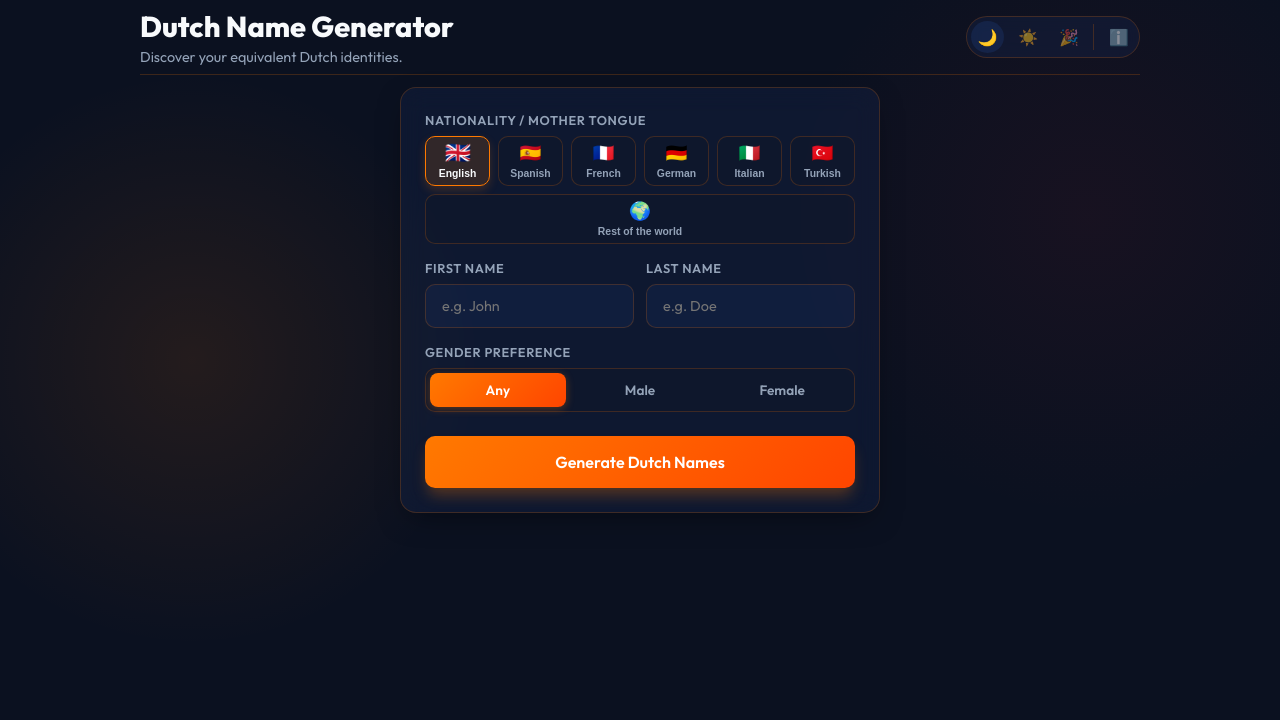
Test: App — About Modal › closes when user clicks the Close button
Click the button titled "About". click: (1119, 37)
box: top-left (1102, 21), bottom-right (1135, 53)
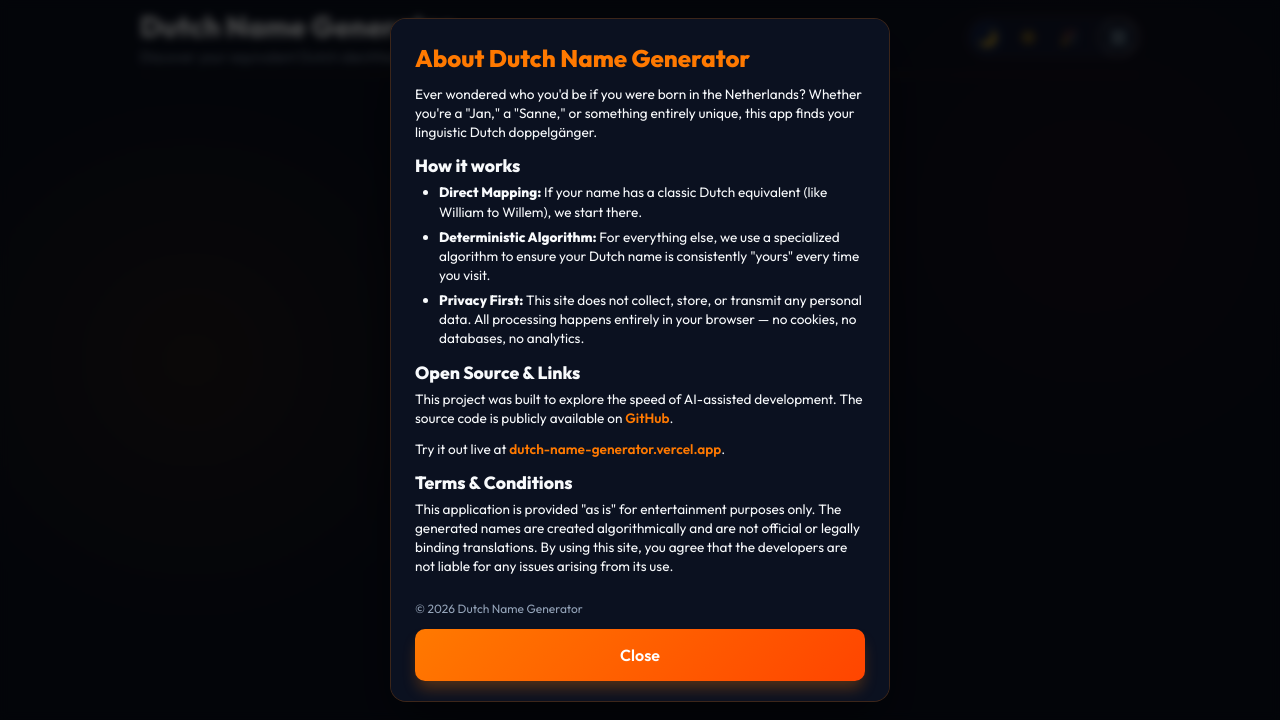
Now the heading "About Dutch Name Generator" is shown, box top-left (415, 43), bottom-right (750, 73)
Click the button "Close". click: (640, 655)
box: top-left (415, 629), bottom-right (865, 681)
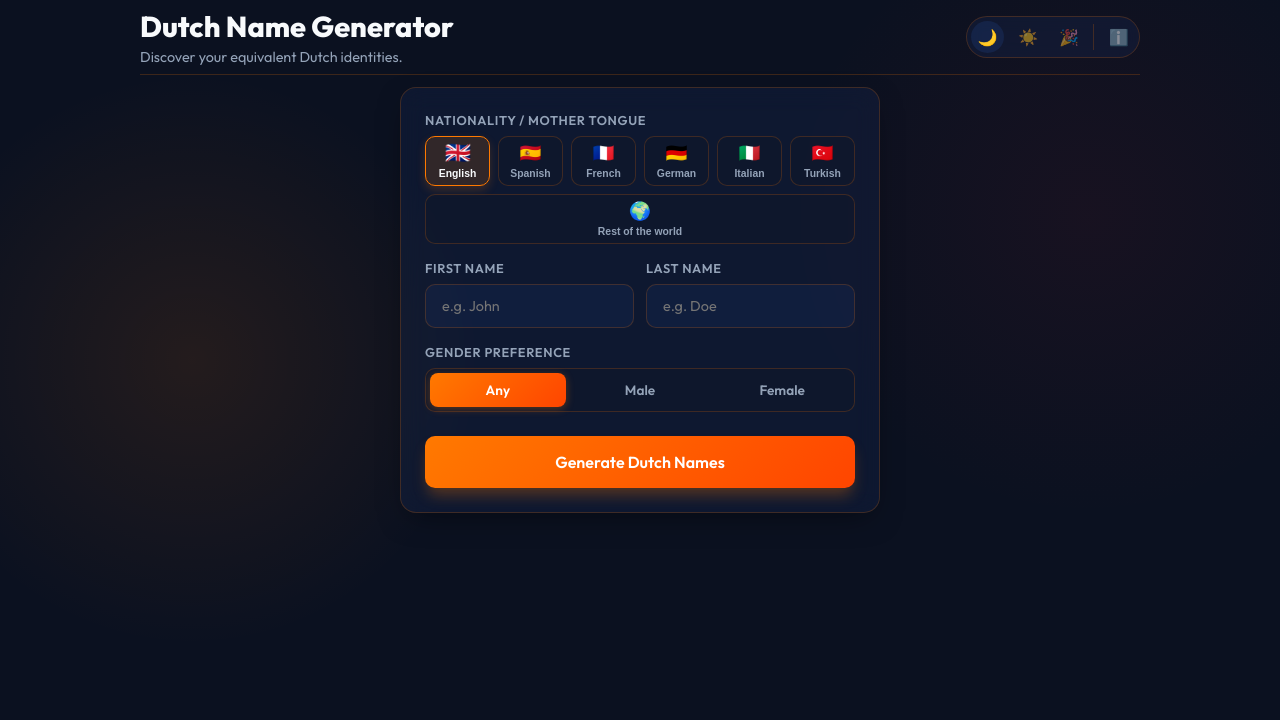
Now the heading "About Dutch Name Generator" is gone
